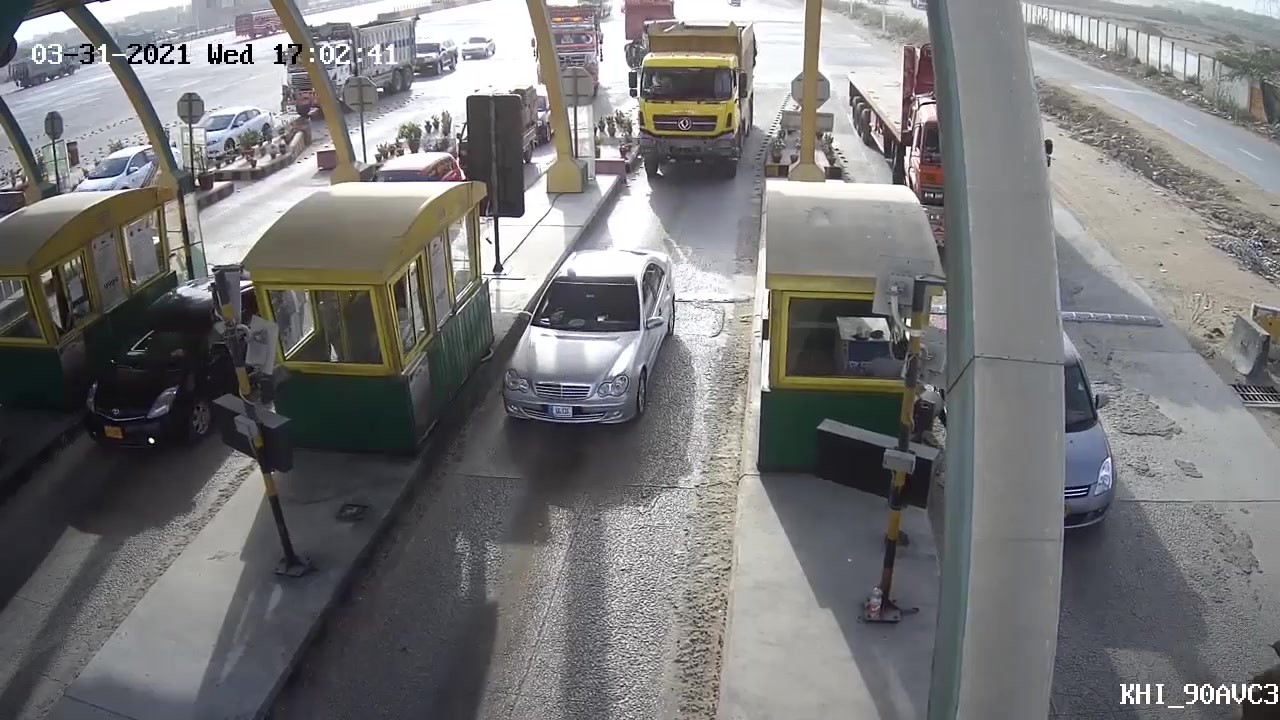F1: (498, 247, 677, 443)
F5: (629, 17, 760, 191)
